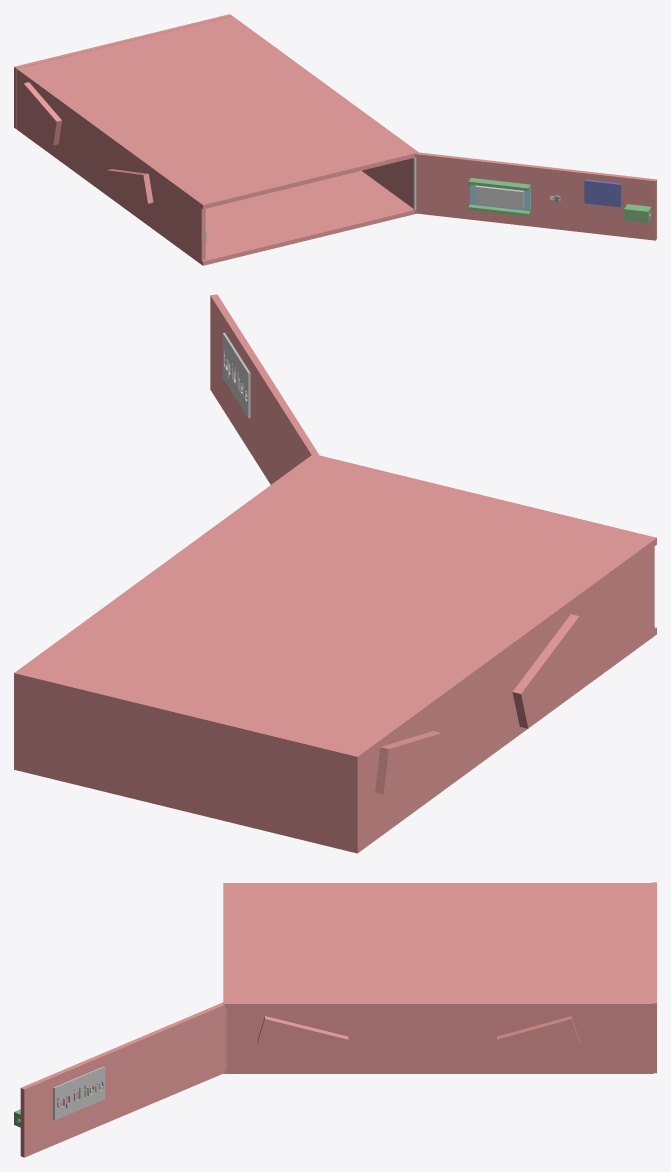
File: object-project-rfid.glb
3 renders of one model, top to bottom at view 1: azimuth 30°, elevation 25°; view 2: azimuth 150°, elevation 25°; view 3: azimuth 270°, elevation 25°, orthographic. The views are drawn at different scales.
Parts seen in each view (by area): view 1: Body1, Body17, Body2, Body4, Body3, Body21, Body19, Body5, Body22, Body18, Body20, Body23; view 2: Body1, Body5, Body4, Body17, Body2, Body46; view 3: Body1, Body3, Body17, Body2, Body46, Body5.
Part boxes in pixels (x1,y1,x2,y2): Body1: (16,16,418,209); Body17: (415,152,656,240); Body2: (16,125,415,265); Body4: (16,73,205,260); Body3: (362,158,413,208); Body21: (475,185,524,208); Body19: (584,179,621,207); Body5: (14,14,231,128); Body22: (468,178,530,191); Body18: (624,204,651,222); Body20: (470,184,530,211); Body23: (468,204,530,216); Body1: (18,454,656,760); Body5: (14,670,361,853); Body4: (361,546,654,843); Body17: (210,294,318,484); Body2: (361,627,656,850); Body46: (222,332,250,418); Body1: (223,883,653,1008); Body3: (226,1009,653,1068); Body17: (20,1002,226,1157); Body2: (223,1068,653,1073); Body46: (53,1066,105,1120); Body5: (651,882,656,1073).
Bounding box in the file's own units: 4.11 × 0.6443 × 5.34.
